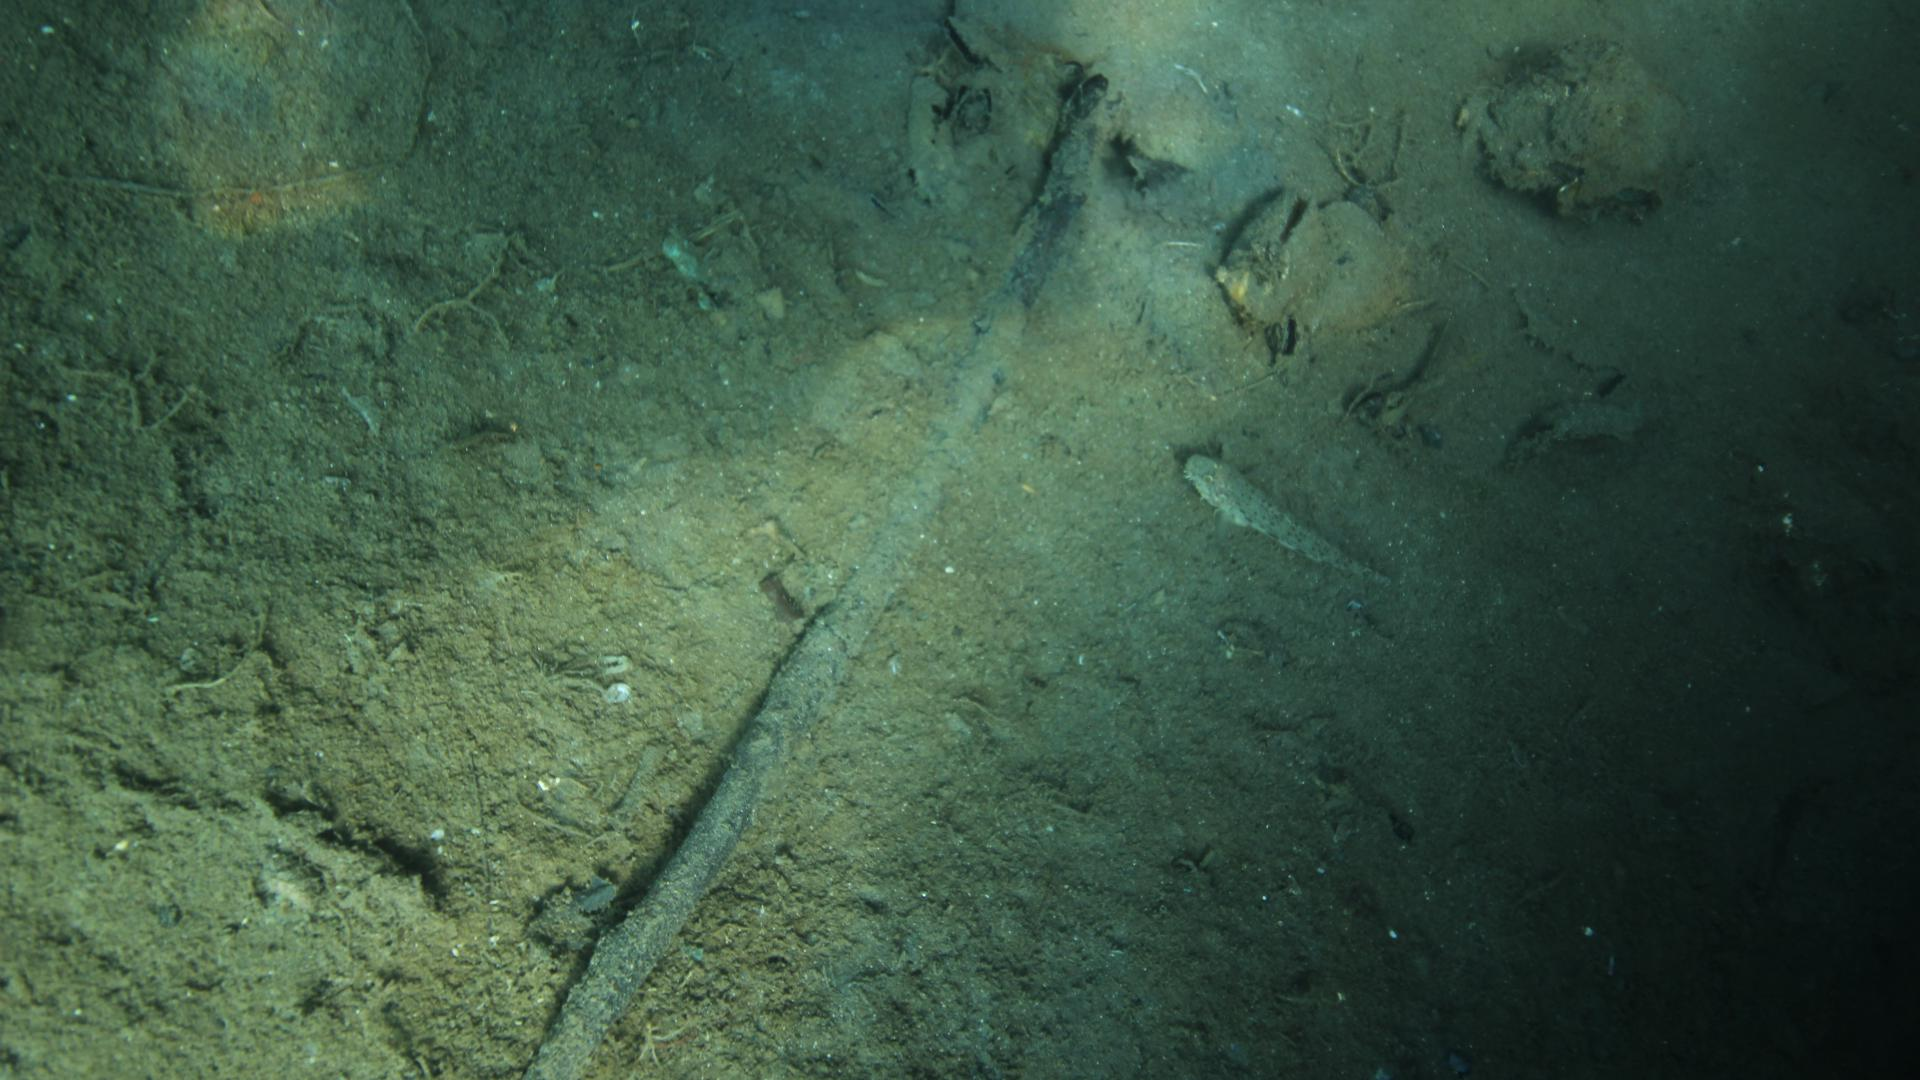wood: (513, 70, 1106, 1080)
